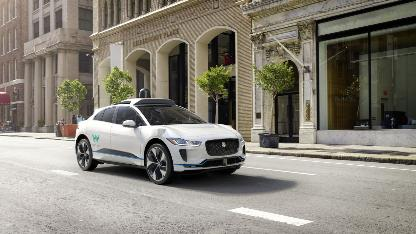car: (70, 93, 250, 187)
